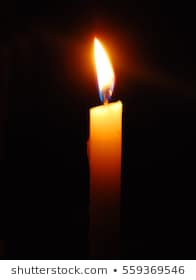Fire: (87, 34, 120, 99)
